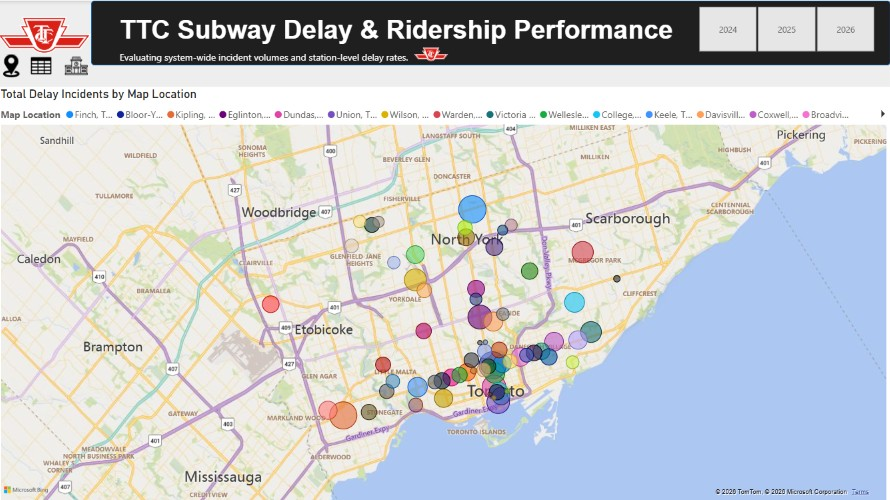

The dashboard page shown, as its layout file describes it:
{"tool":"powerbi","page":{"name":"Delay Map","canvas":[1280,720],"ordinal":1},"visuals":[{"type":"image","box":[0,0,135,99.3],"z":0},{"type":"shape","box":[135,0,1145.1,92.7],"z":1000},{"type":"textbox","box":[170.8,13.9,808.1,65.5],"z":2000},{"type":"textbox","box":[170.8,65.5,734.7,27.8],"z":3000},{"type":"slicer","fields":{"Values":["Dim_Calendar.Year"]},"box":[979.2,1.6,300.9,78.1],"z":4000},{"type":"map","title":"Total Delay Incidents by Map Location ","fields":{"Category":["Dim_Stations.Map Location"],"Series":["Dim_Stations.Map Location"],"Size":["_Measure Table.Total Delay Incidents"]},"box":[11.4,107.4,1268.7,613.2],"z":5000},{"type":"image","box":[596.9,45.5,48.8,61.8],"z":7000},{"type":"actionButton","box":[657.1,58.6,50.4,34.2],"z":8000},{"type":"actionButton","box":[696.2,50.4,74.8,45],"z":8001}]}

Visuals, with their boxes in screenshot pixels (x1, y1, x2, y2), scaled from the page's 1280x720 canvas onto the 890x500 screenshot:
image: 0/0/94/69
shape: 94/0/889/64
textbox: 119/10/681/55
textbox: 119/45/630/65
slicer - Dim_Calendar.Year: 681/1/889/55
"Total Delay Incidents by Map Location " map: 8/75/889/499
image: 415/32/449/75
actionButton: 457/41/492/64
actionButton: 484/35/536/66
